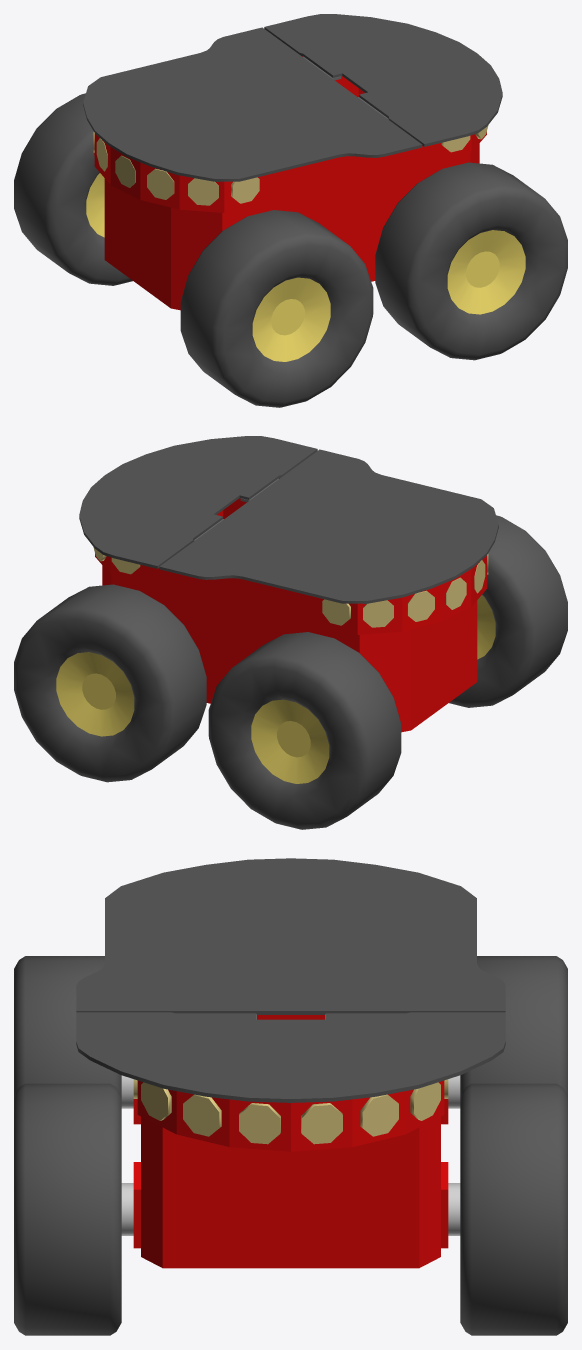
The model's file is pioneer.dae.
The picture shows the model from 3 angles, top to bottom: view 1: azimuth 30°, elevation 25°; view 2: azimuth 150°, elevation 25°; view 3: azimuth 270°, elevation 25°; orthographic projection. The views are drawn at different scales.
Visible parts, largest first — view 1: Cube.001, Plane.001, Plane.003, Plane.009, Plane.017, Plane.004, Plane.008, Cylinder.001, Plane.016; view 2: Cube.001, Plane.001, Plane.017, Plane.010, Plane.003, Plane.016, Plane.011, Cylinder.002, Plane.004; view 3: Cube.001, Plane.001, Plane.009, Plane.010, Plane.003, Plane.017, Cylinder, Cylinder.003, Plane.006, Plane.013, Plane.007, Plane.012.
Part boxes in pixels (x1=…): Cube.001: x1=83, y1=14, x2=502, y2=181; Plane.001: x1=94, y1=56, x2=486, y2=310; Plane.003: x1=180, y1=210, x2=373, y2=407; Plane.009: x1=375, y1=162, x2=567, y2=360; Plane.017: x1=14, y1=93, x2=132, y2=285; Plane.004: x1=252, y1=277, x2=330, y2=361; Plane.008: x1=447, y1=230, x2=525, y2=314; Cylinder.001: x1=115, y1=155, x2=259, y2=205; Plane.016: x1=86, y1=173, x2=104, y2=237; Cube.001: x1=79, y1=436, x2=498, y2=603; Plane.001: x1=95, y1=478, x2=487, y2=732; Plane.017: x1=208, y1=632, x2=401, y2=829; Plane.010: x1=14, y1=584, x2=206, y2=782; Plane.003: x1=449, y1=515, x2=567, y2=707; Plane.016: x1=251, y1=699, x2=329, y2=783; Plane.011: x1=56, y1=652, x2=134, y2=736; Cylinder.002: x1=322, y1=577, x2=466, y2=627; Plane.004: x1=477, y1=595, x2=495, y2=659; Cube.001: x1=76, y1=858, x2=505, y2=1102; Plane.001: x1=137, y1=1015, x2=444, y2=1268; Plane.009: x1=14, y1=1083, x2=121, y2=1335; Plane.010: x1=460, y1=1083, x2=567, y2=1335; Plane.003: x1=14, y1=956, x2=121, y2=1095; Plane.017: x1=460, y1=956, x2=567, y2=1095; Cylinder: x1=133, y1=1079, x2=280, y2=1144; Cylinder.003: x1=301, y1=1079, x2=448, y2=1144; Plane.006: x1=133, y1=1162, x2=140, y2=1248; Plane.013: x1=441, y1=1162, x2=448, y2=1248; Plane.007: x1=121, y1=1183, x2=133, y2=1235; Plane.012: x1=448, y1=1183, x2=460, y2=1235.
Size of the model in its own units: 0.5082 by 0.4941 by 0.2769.
